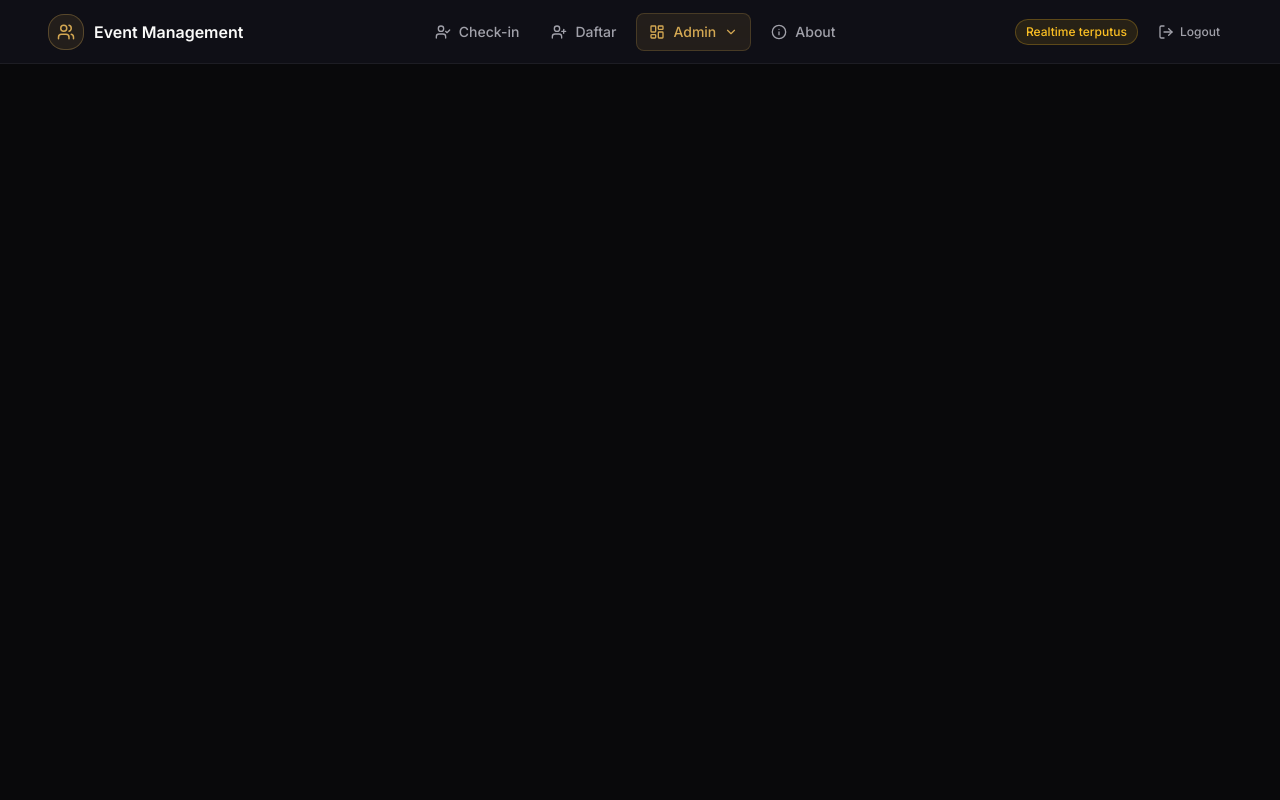
TopNav public navigation behavior › marks a settings destination current and groups the Admin disclosure
The width and height of the screenshot is (1280, 800).
Click the button "Admin".
click(694, 32)  # box [636,12,751,50]
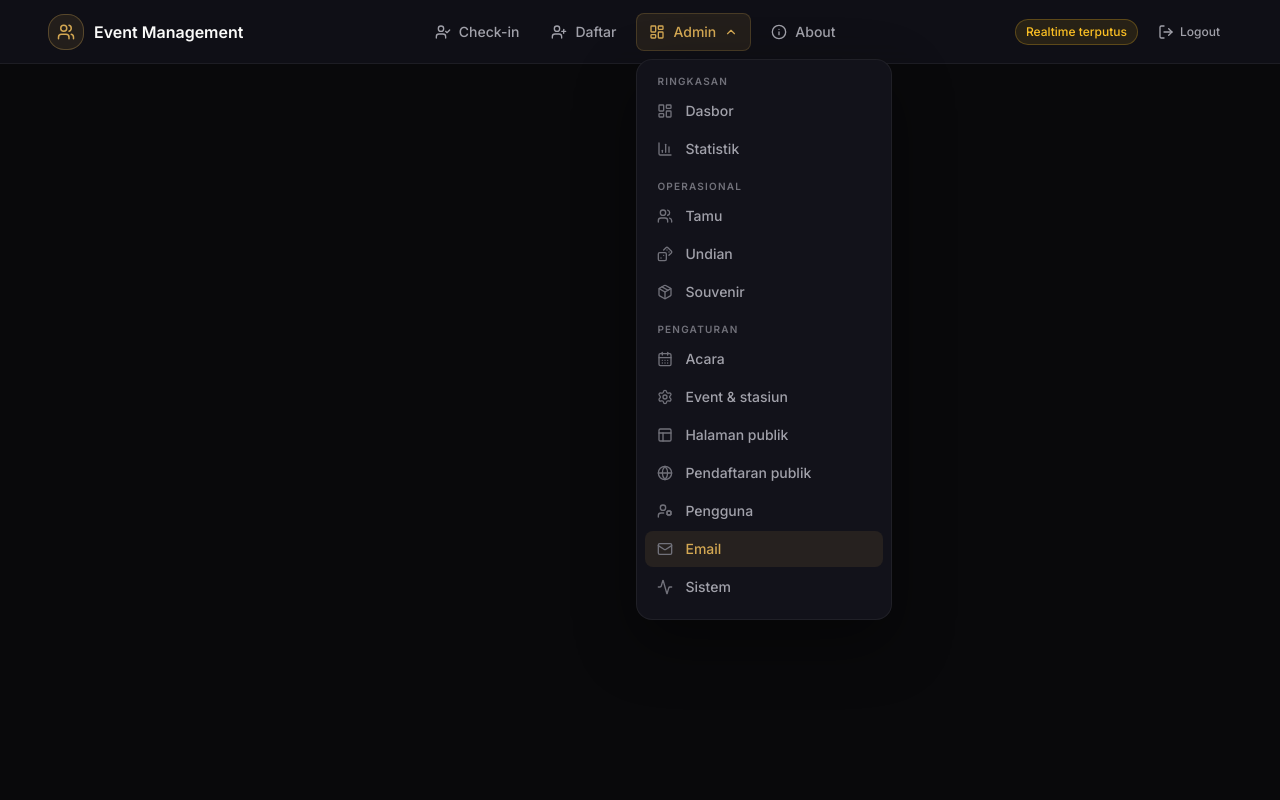
expect the heading "Ringkasan" is shown: met, box [657,74,728,86]
expect the heading "Operasional" is shown: met, box [657,180,742,192]
expect the heading "Pengaturan" is shown: met, box [657,322,738,334]
